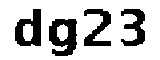2: (81, 7, 113, 51)
3: (118, 7, 151, 51)
d: (12, 6, 45, 51)
g: (51, 16, 80, 60)
